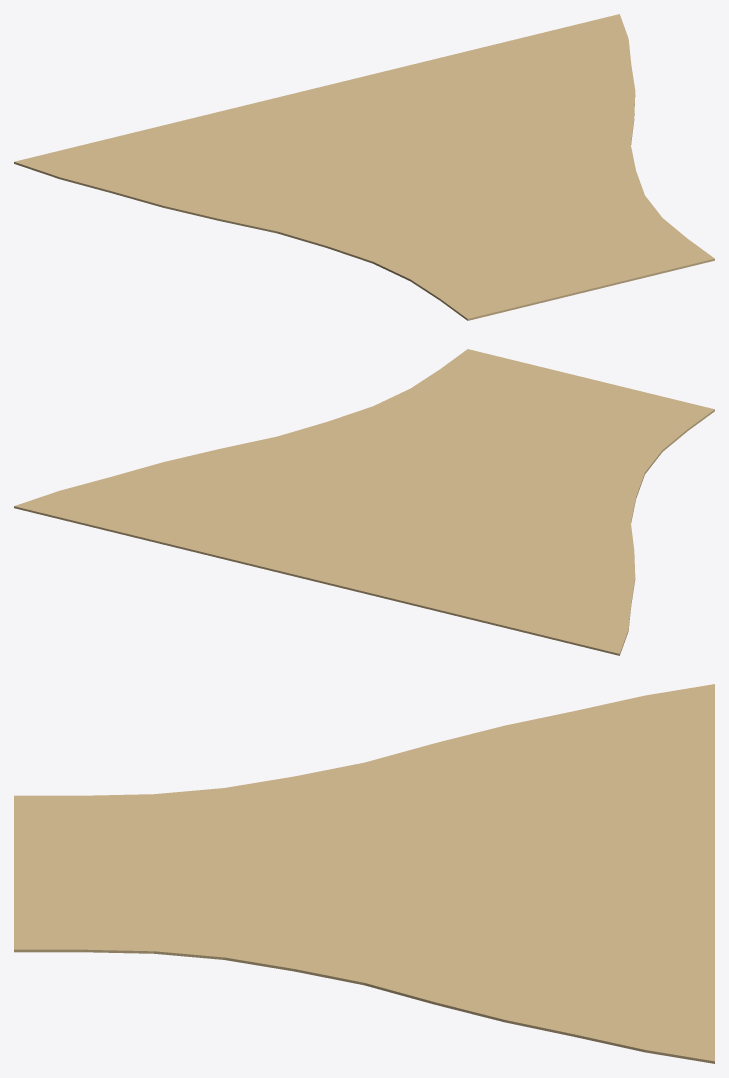
3 views of the same model, one above another, from view 1: azimuth 30°, elevation 25°; view 2: azimuth 150°, elevation 25°; view 3: azimuth 270°, elevation 25° (orthographic). The views are drawn at different scales.
Visible parts, largest first — view 1: 渐宽河口_独立纸底.001; view 2: 渐宽河口_独立纸底.001; view 3: 渐宽河口_独立纸底.001.
Part boxes in pixels (x1,y1,x2,y2): 渐宽河口_独立纸底.001: (14, 14, 714, 320); 渐宽河口_独立纸底.001: (14, 349, 714, 655); 渐宽河口_独立纸底.001: (14, 684, 714, 1063).
Size of the model in its own units: 2.55 by 0.008 by 2.
